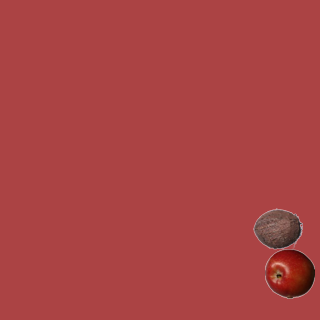Apple Braeburn: (264, 248, 314, 298)
Cocos: (252, 203, 302, 253)
